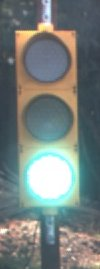Green: (7, 21, 94, 215)
